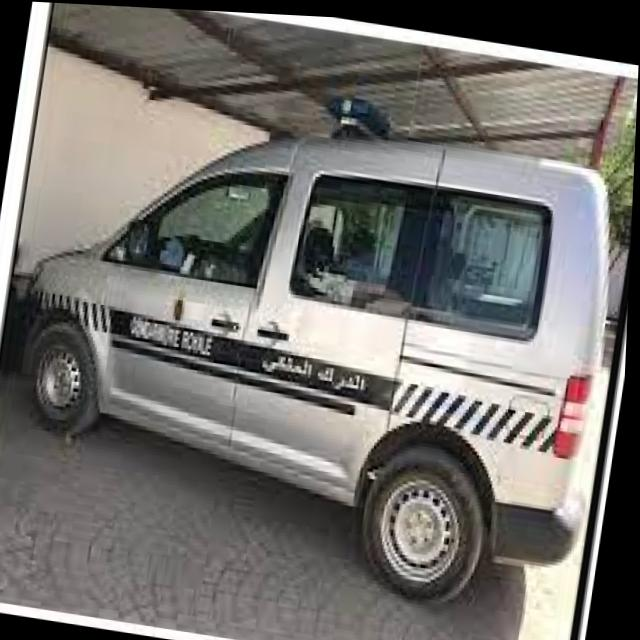gendarme car: (0, 37, 639, 630)
